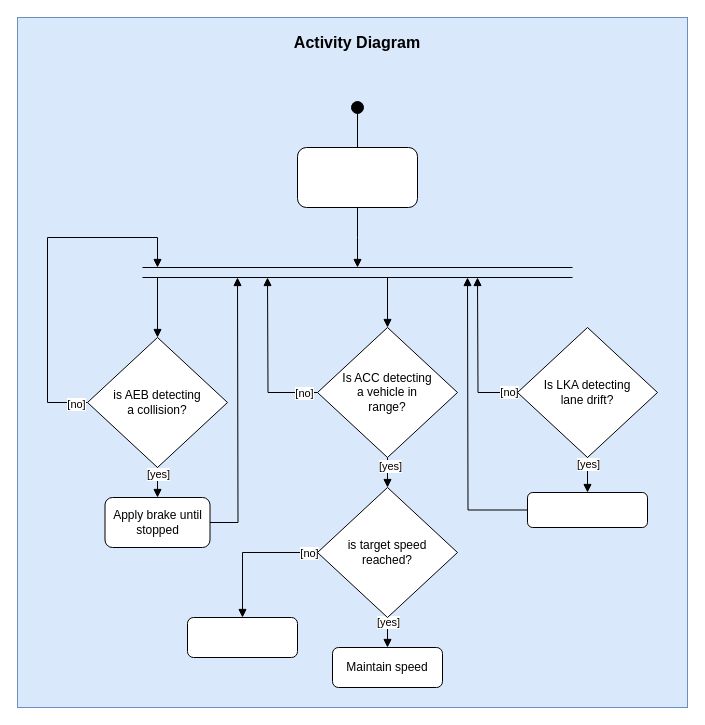
Some shapes in this 705 by 725 pixel diagram are drawn without their labels. Here are the shapes that lost their labels. From the top down, the centre of each, then its label:
the point at 357,177: Program Running
the point at 587,510: Turn to correct drift
the point at 242,637: Accelerate
